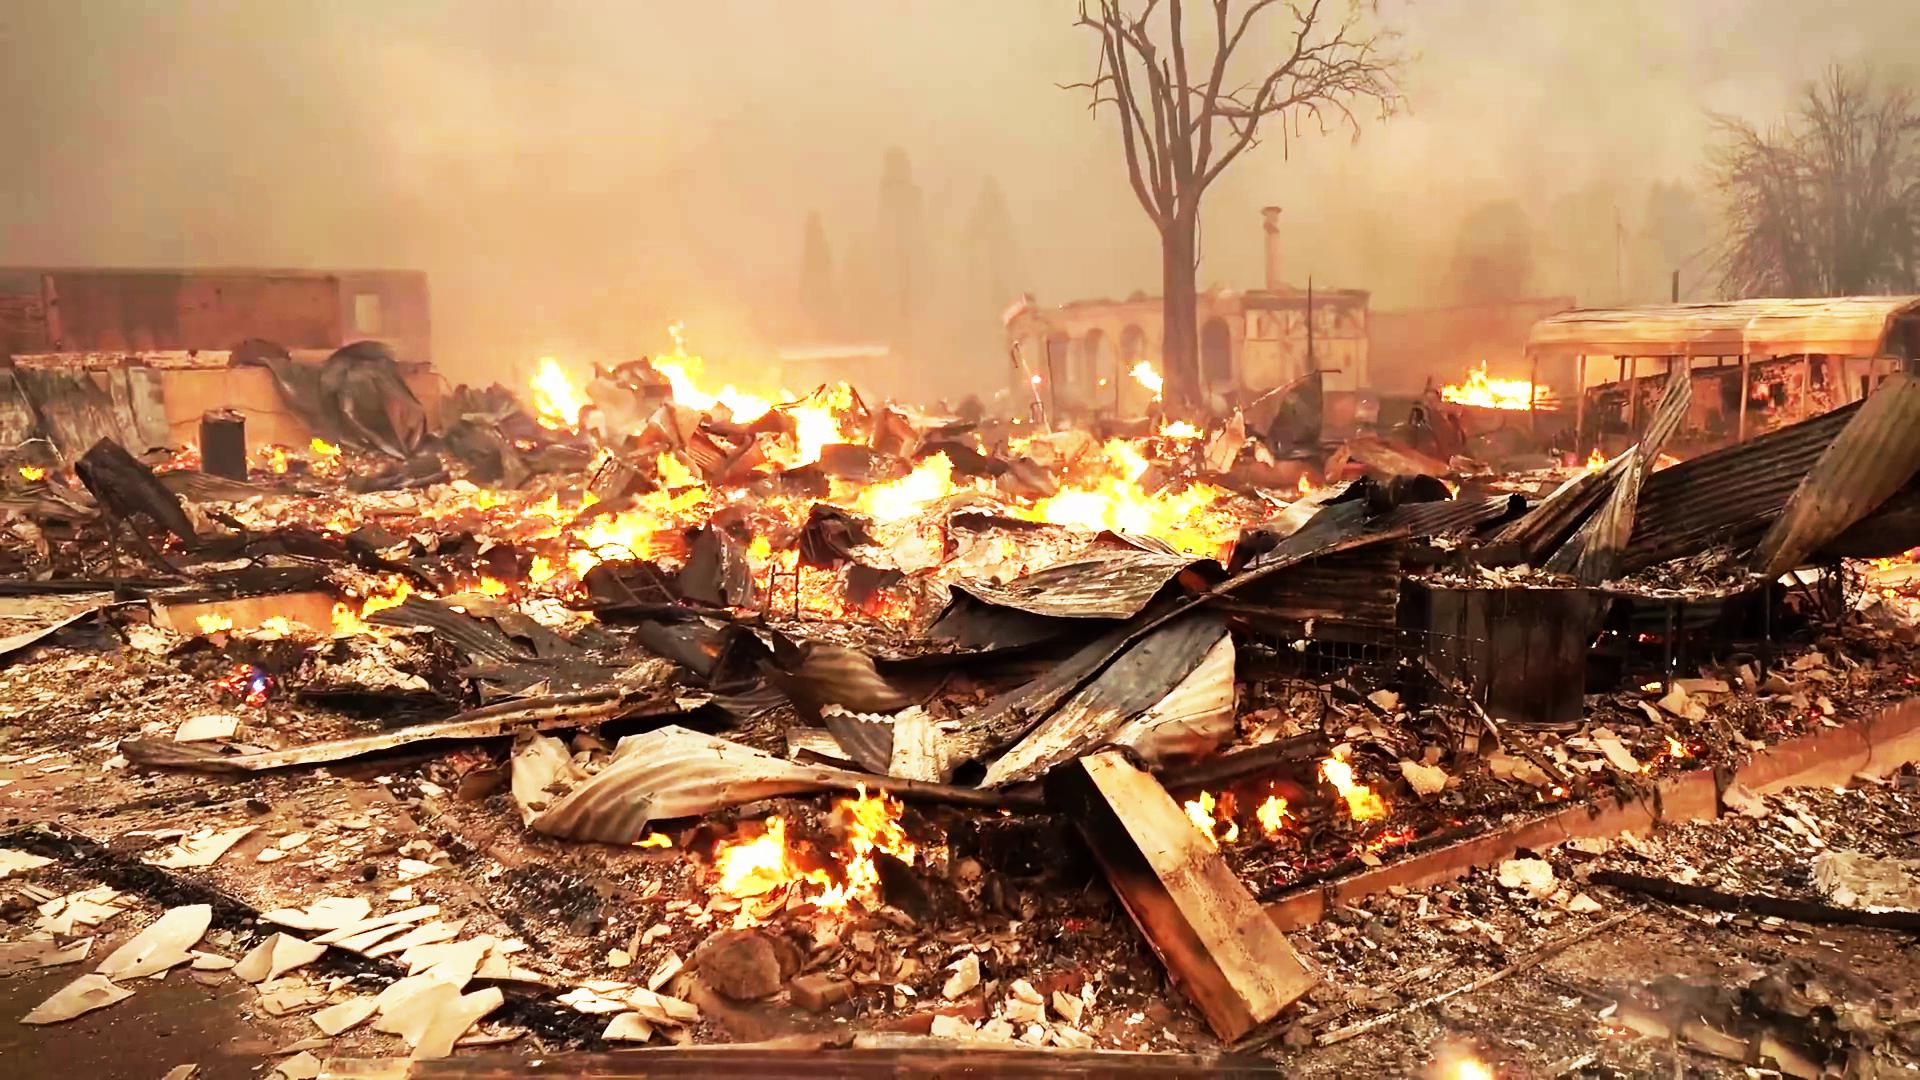fire: (543, 433, 721, 572), (1058, 429, 1230, 550), (737, 781, 898, 890), (653, 343, 777, 431), (885, 440, 976, 525)
